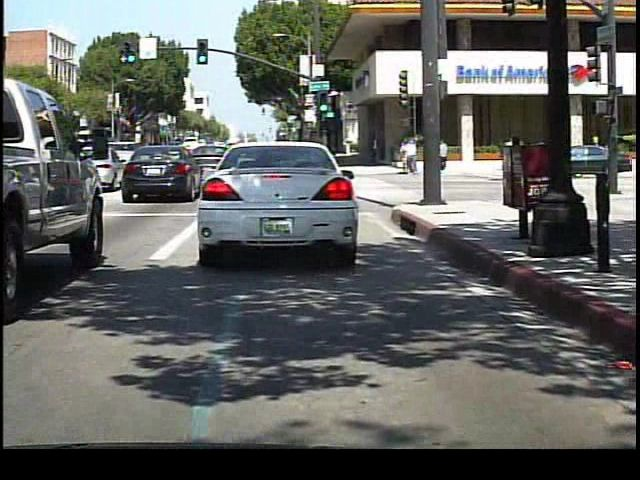person: (500, 134, 521, 175), (402, 136, 419, 178), (439, 135, 452, 172)
